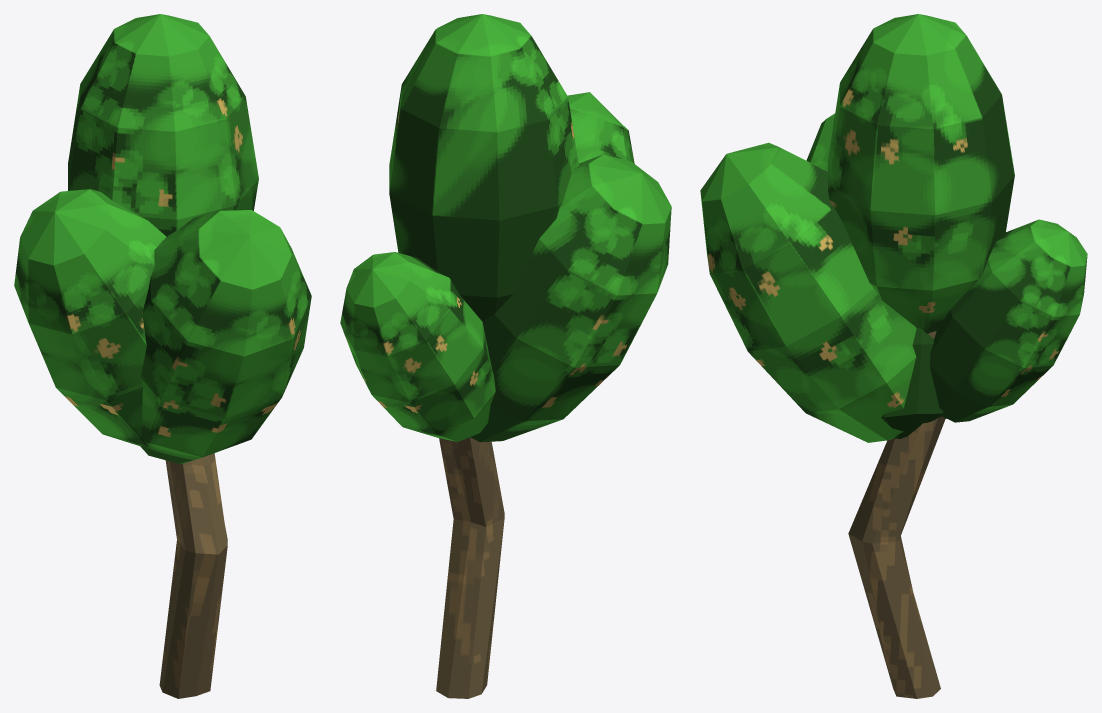
The model's file is tree.glb.
The picture shows the model from 3 angles, left to right: view 1: azimuth 30°, elevation 25°; view 2: azimuth 150°, elevation 25°; view 3: azimuth 270°, elevation 25°; orthographic projection. The views are drawn at different scales.
Parts seen in each view (by area): view 1: Sphere.002; view 2: Sphere.002; view 3: Sphere.002.
Boxes of the visible parts, box(x1,y1,x2,y2) form: Sphere.002: box(14, 14, 311, 698); Sphere.002: box(340, 14, 671, 698); Sphere.002: box(700, 14, 1087, 698).
Bounding box in the file's own units: 0.7043 × 1.89 × 1.
Materials: 1 (1 with a texture image).
